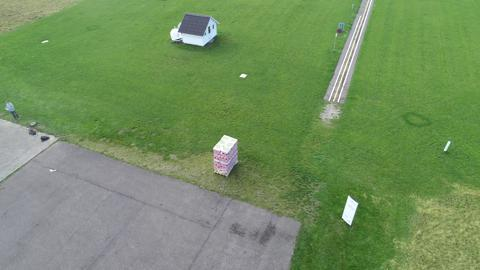RockwoolPallet: (212, 134, 239, 178)
